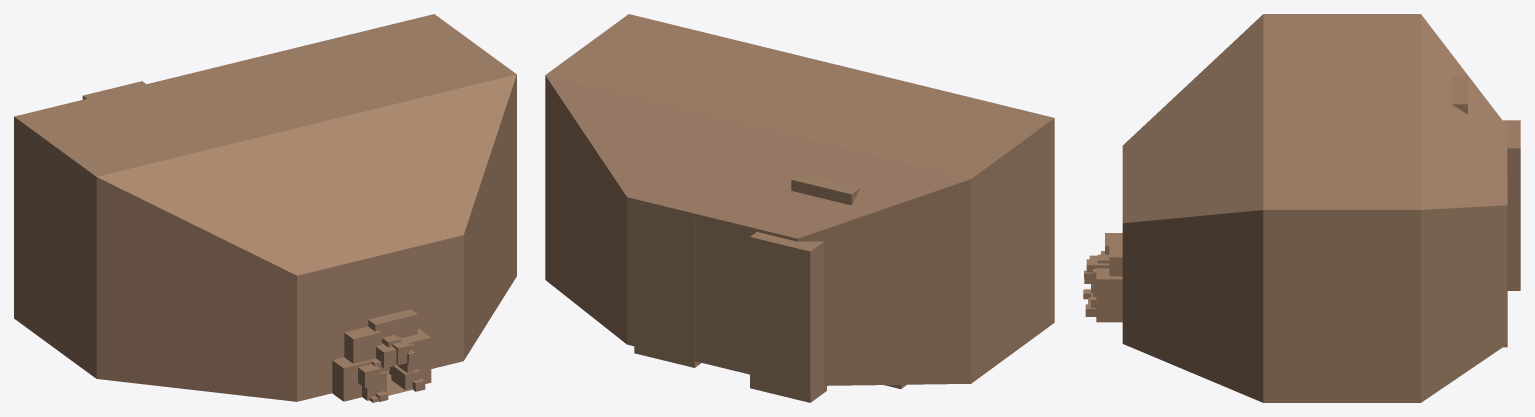
Rendered from Cave.fbx.
3 views of the same model, side by side, from view 1: azimuth 30°, elevation 25°; view 2: azimuth 150°, elevation 25°; view 3: azimuth 270°, elevation 25° (orthographic). The views are drawn at different scales.
Parts seen in each view (by area): view 1: Cube; view 2: Cube; view 3: Cube.
Part boxes in pixels (x1,y1,x2,y2): Cube: (14, 14, 516, 402); Cube: (545, 14, 1054, 402); Cube: (1083, 14, 1520, 402).
Bounding box in the file's own units: 10749 × 5103 × 10131.
